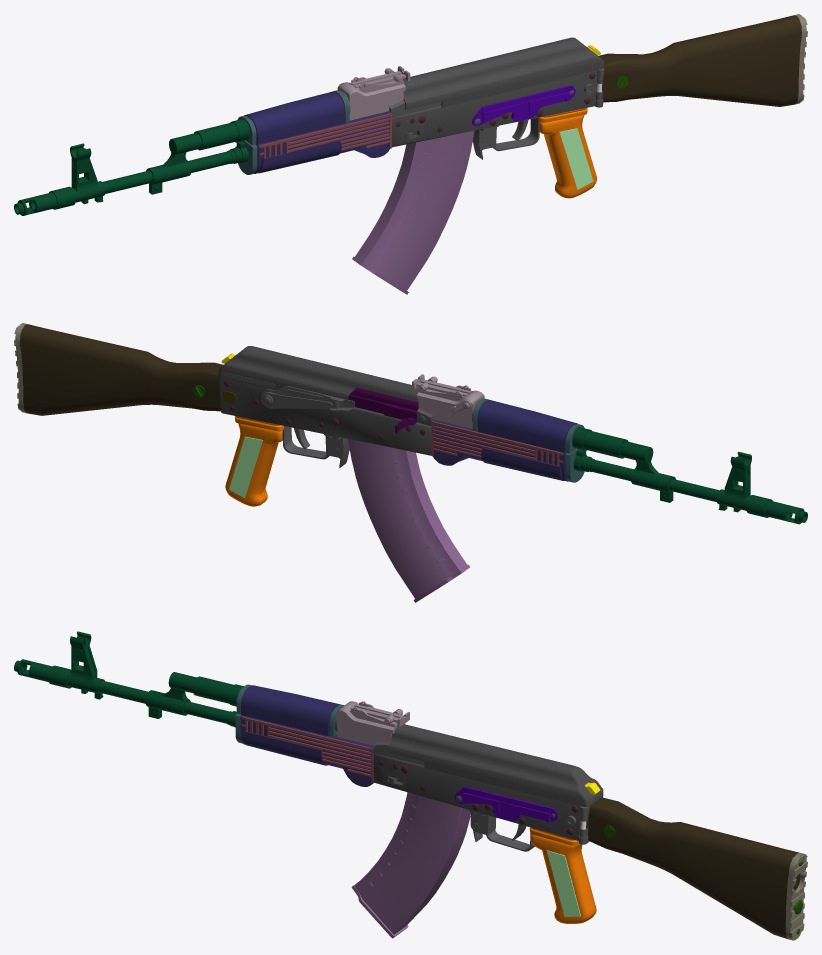
3 views of the same model, one above another, from view 1: azimuth 30°, elevation 25°; view 2: azimuth 150°, elevation 25°; view 3: azimuth 330°, elevation 25° (orthographic).
Parts seen in each view (by area): view 1: Plane.001 (×2); view 2: Plane.001 (×2); view 3: Plane.001 (×2).
Boxes of the visible parts, left/top/right/bottom form: Plane.001 (×2): left=14, top=14, right=807, bottom=294; Plane.001 (×2): left=14, top=323, right=807, bottom=602; Plane.001 (×2): left=14, top=631, right=807, bottom=940.
Bounding box in the file's own units: 490 × 131 × 35.77.
